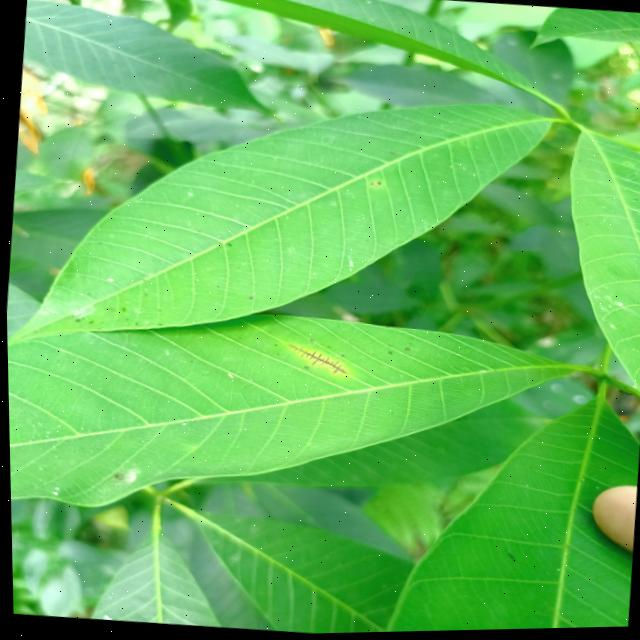Colletotrichum: (402, 349, 408, 352), (247, 298, 251, 301), (376, 183, 380, 186), (302, 368, 307, 370), (308, 340, 312, 342), (339, 356, 343, 358), (236, 338, 240, 340), (274, 354, 277, 356)
Corynespora: (283, 344, 348, 378)
